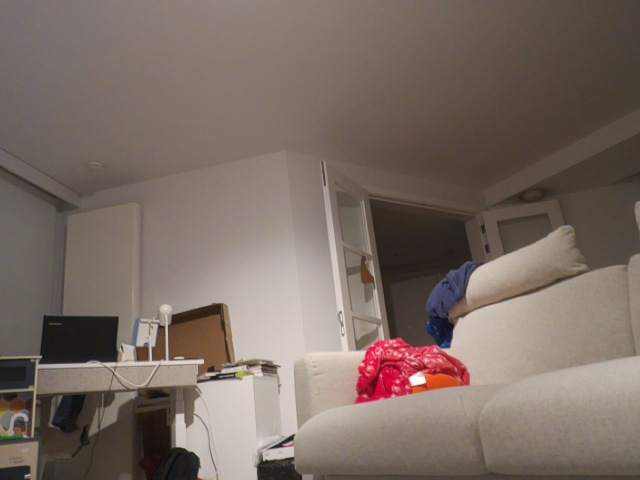desk: (30, 325, 204, 445)
door: (322, 157, 390, 351), (460, 189, 568, 264)
laptop: (41, 315, 118, 363)
sofa: (295, 254, 639, 479)
